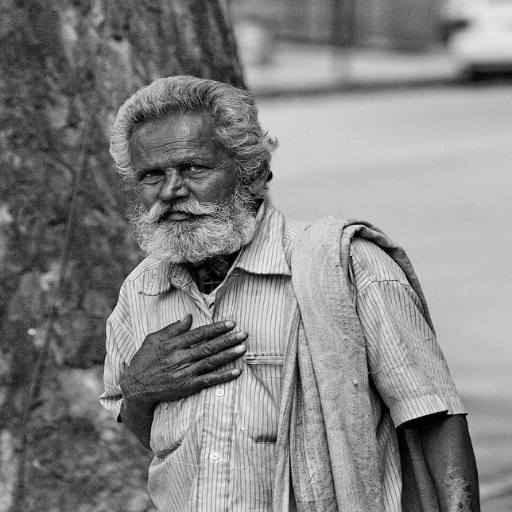hand: (128, 318, 267, 402)
